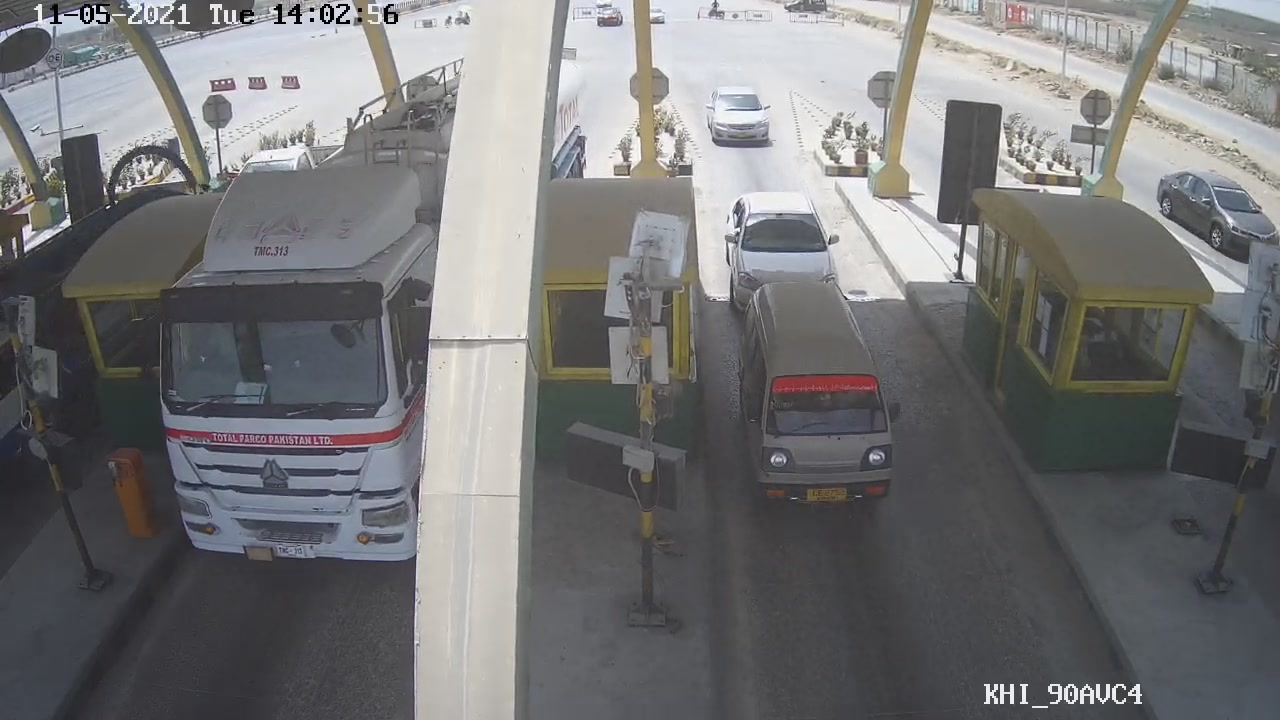F1: (720, 270, 925, 535)
